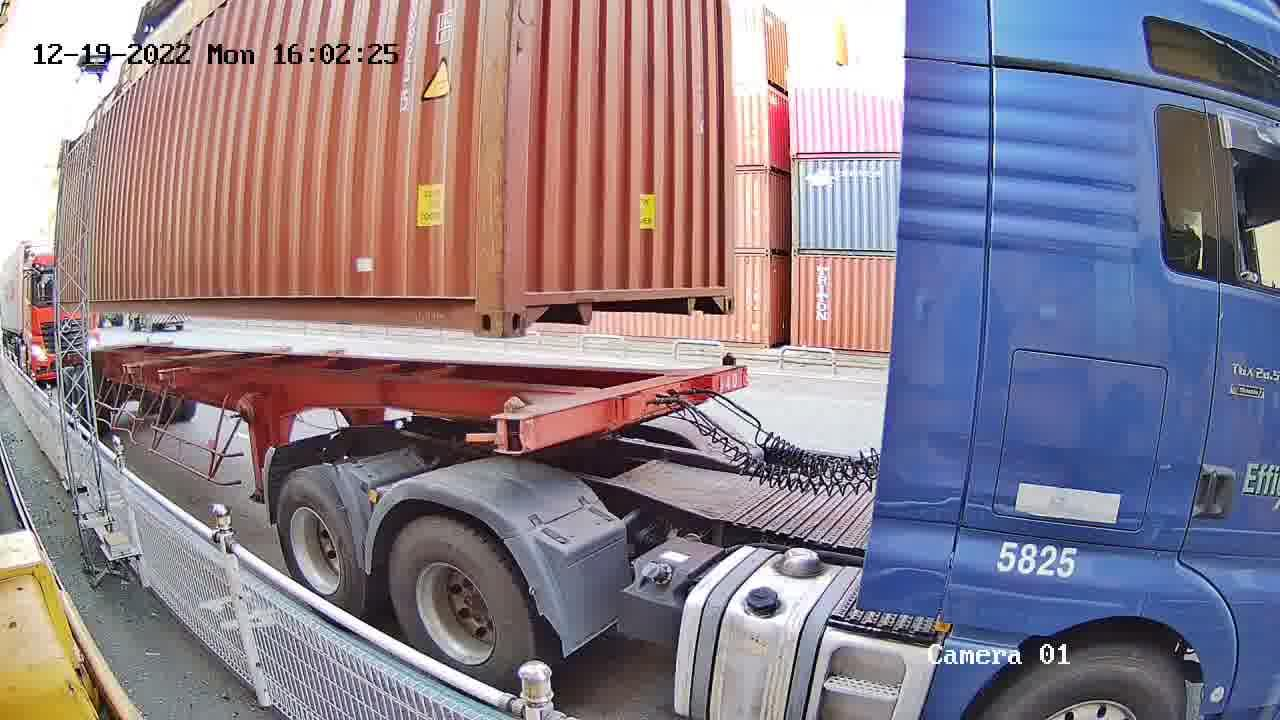Chassis: (491, 363, 748, 454)
Cone: (494, 397, 521, 453), (718, 352, 739, 368)
Hole_L: (502, 275, 551, 337)
Hole_R: (450, 274, 503, 336), (696, 264, 737, 316)
Tire: (385, 521, 530, 683), (276, 476, 362, 610)
